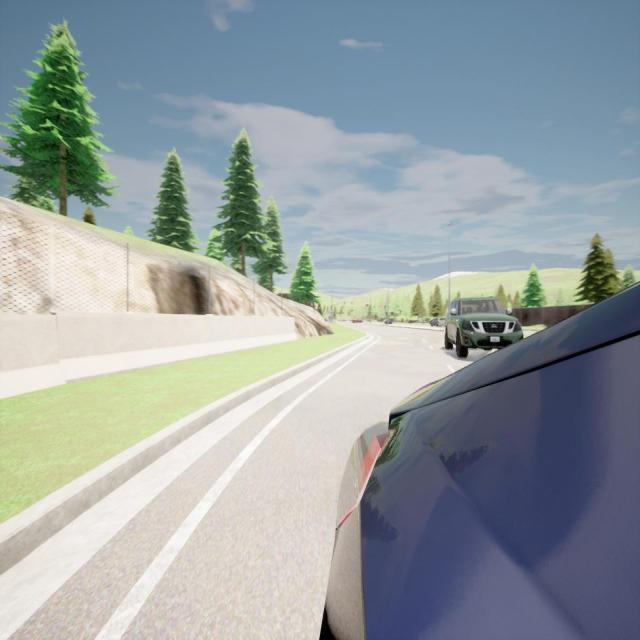Vehicle: (326, 283, 640, 638), (444, 297, 524, 358), (431, 316, 446, 327), (352, 319, 363, 323), (384, 319, 392, 324)
